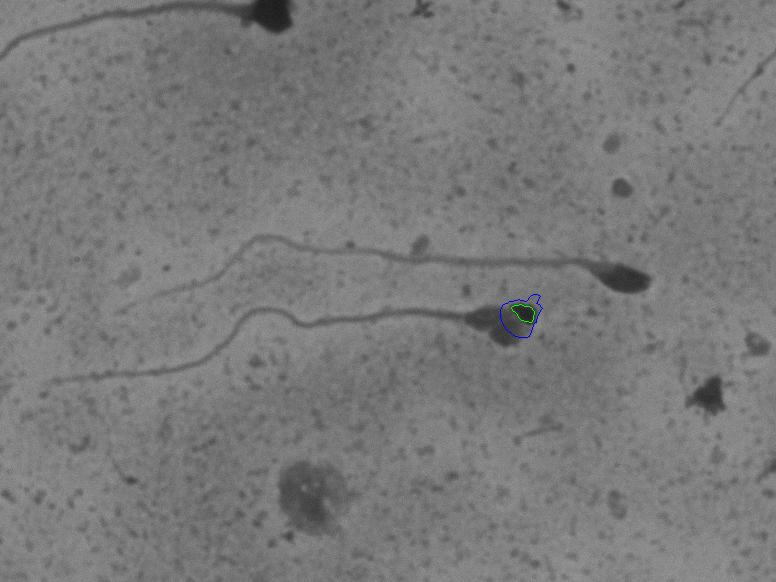Abnormal: (60, 210, 669, 314)
